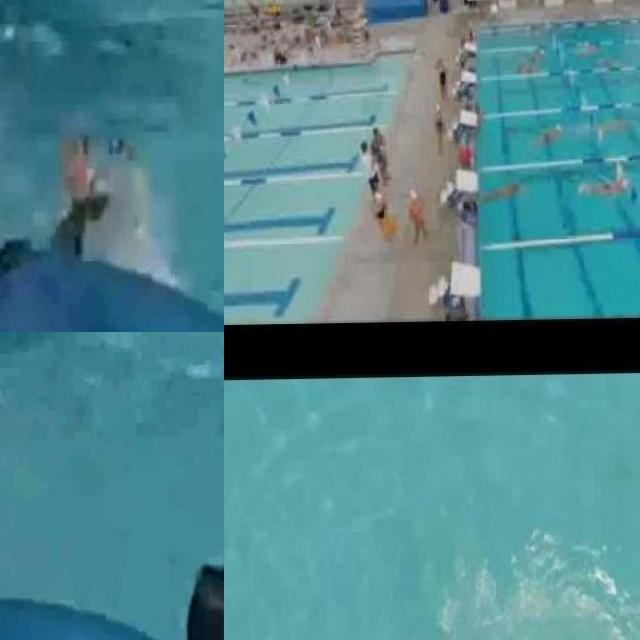drowning: (0, 120, 157, 297)
swimming: (10, 260, 224, 332), (85, 554, 224, 640), (582, 172, 628, 205), (566, 36, 600, 59), (510, 49, 544, 72), (491, 180, 519, 202), (534, 121, 560, 143), (600, 48, 616, 71)
